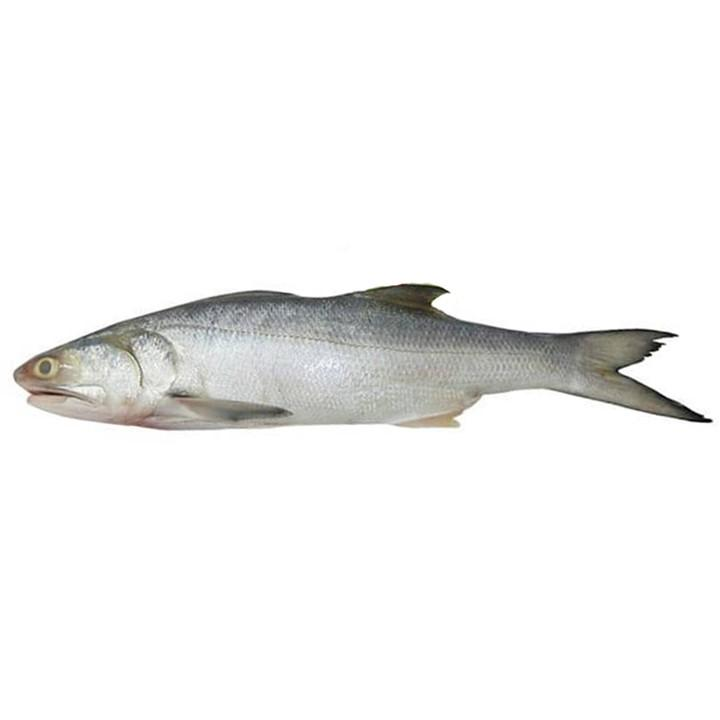Fourfinger Threadfish: (14, 278, 711, 442)
